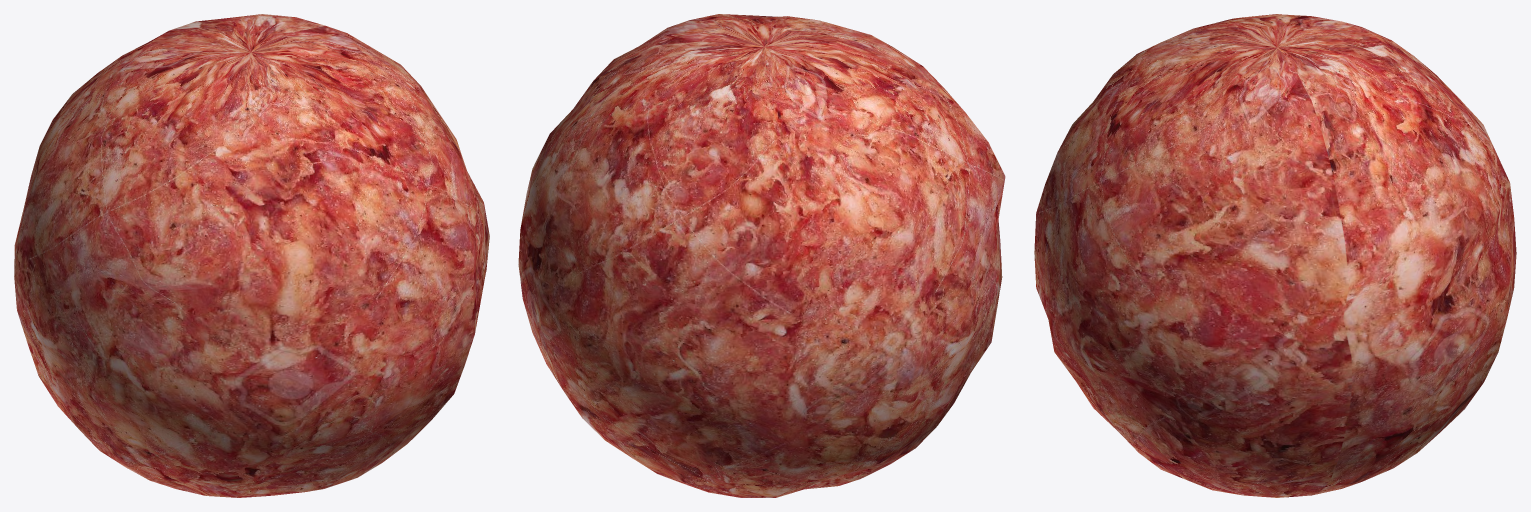
File: MeatBallFBX.fbx
3 renders of one model, left to right at view 1: azimuth 30°, elevation 25°; view 2: azimuth 150°, elevation 25°; view 3: azimuth 270°, elevation 25°, orthographic.
Parts seen in each view (by area): view 1: pSphere2; view 2: pSphere2; view 3: pSphere2.
Part boxes in pixels (x1,y1,x2,y2): pSphere2: [14, 14, 489, 497]; pSphere2: [518, 14, 1005, 497]; pSphere2: [1034, 14, 1516, 497].
Size of the model in its own units: 0.5165 by 0.5158 by 0.5202.
Materials: 1 (1 with a texture image).
